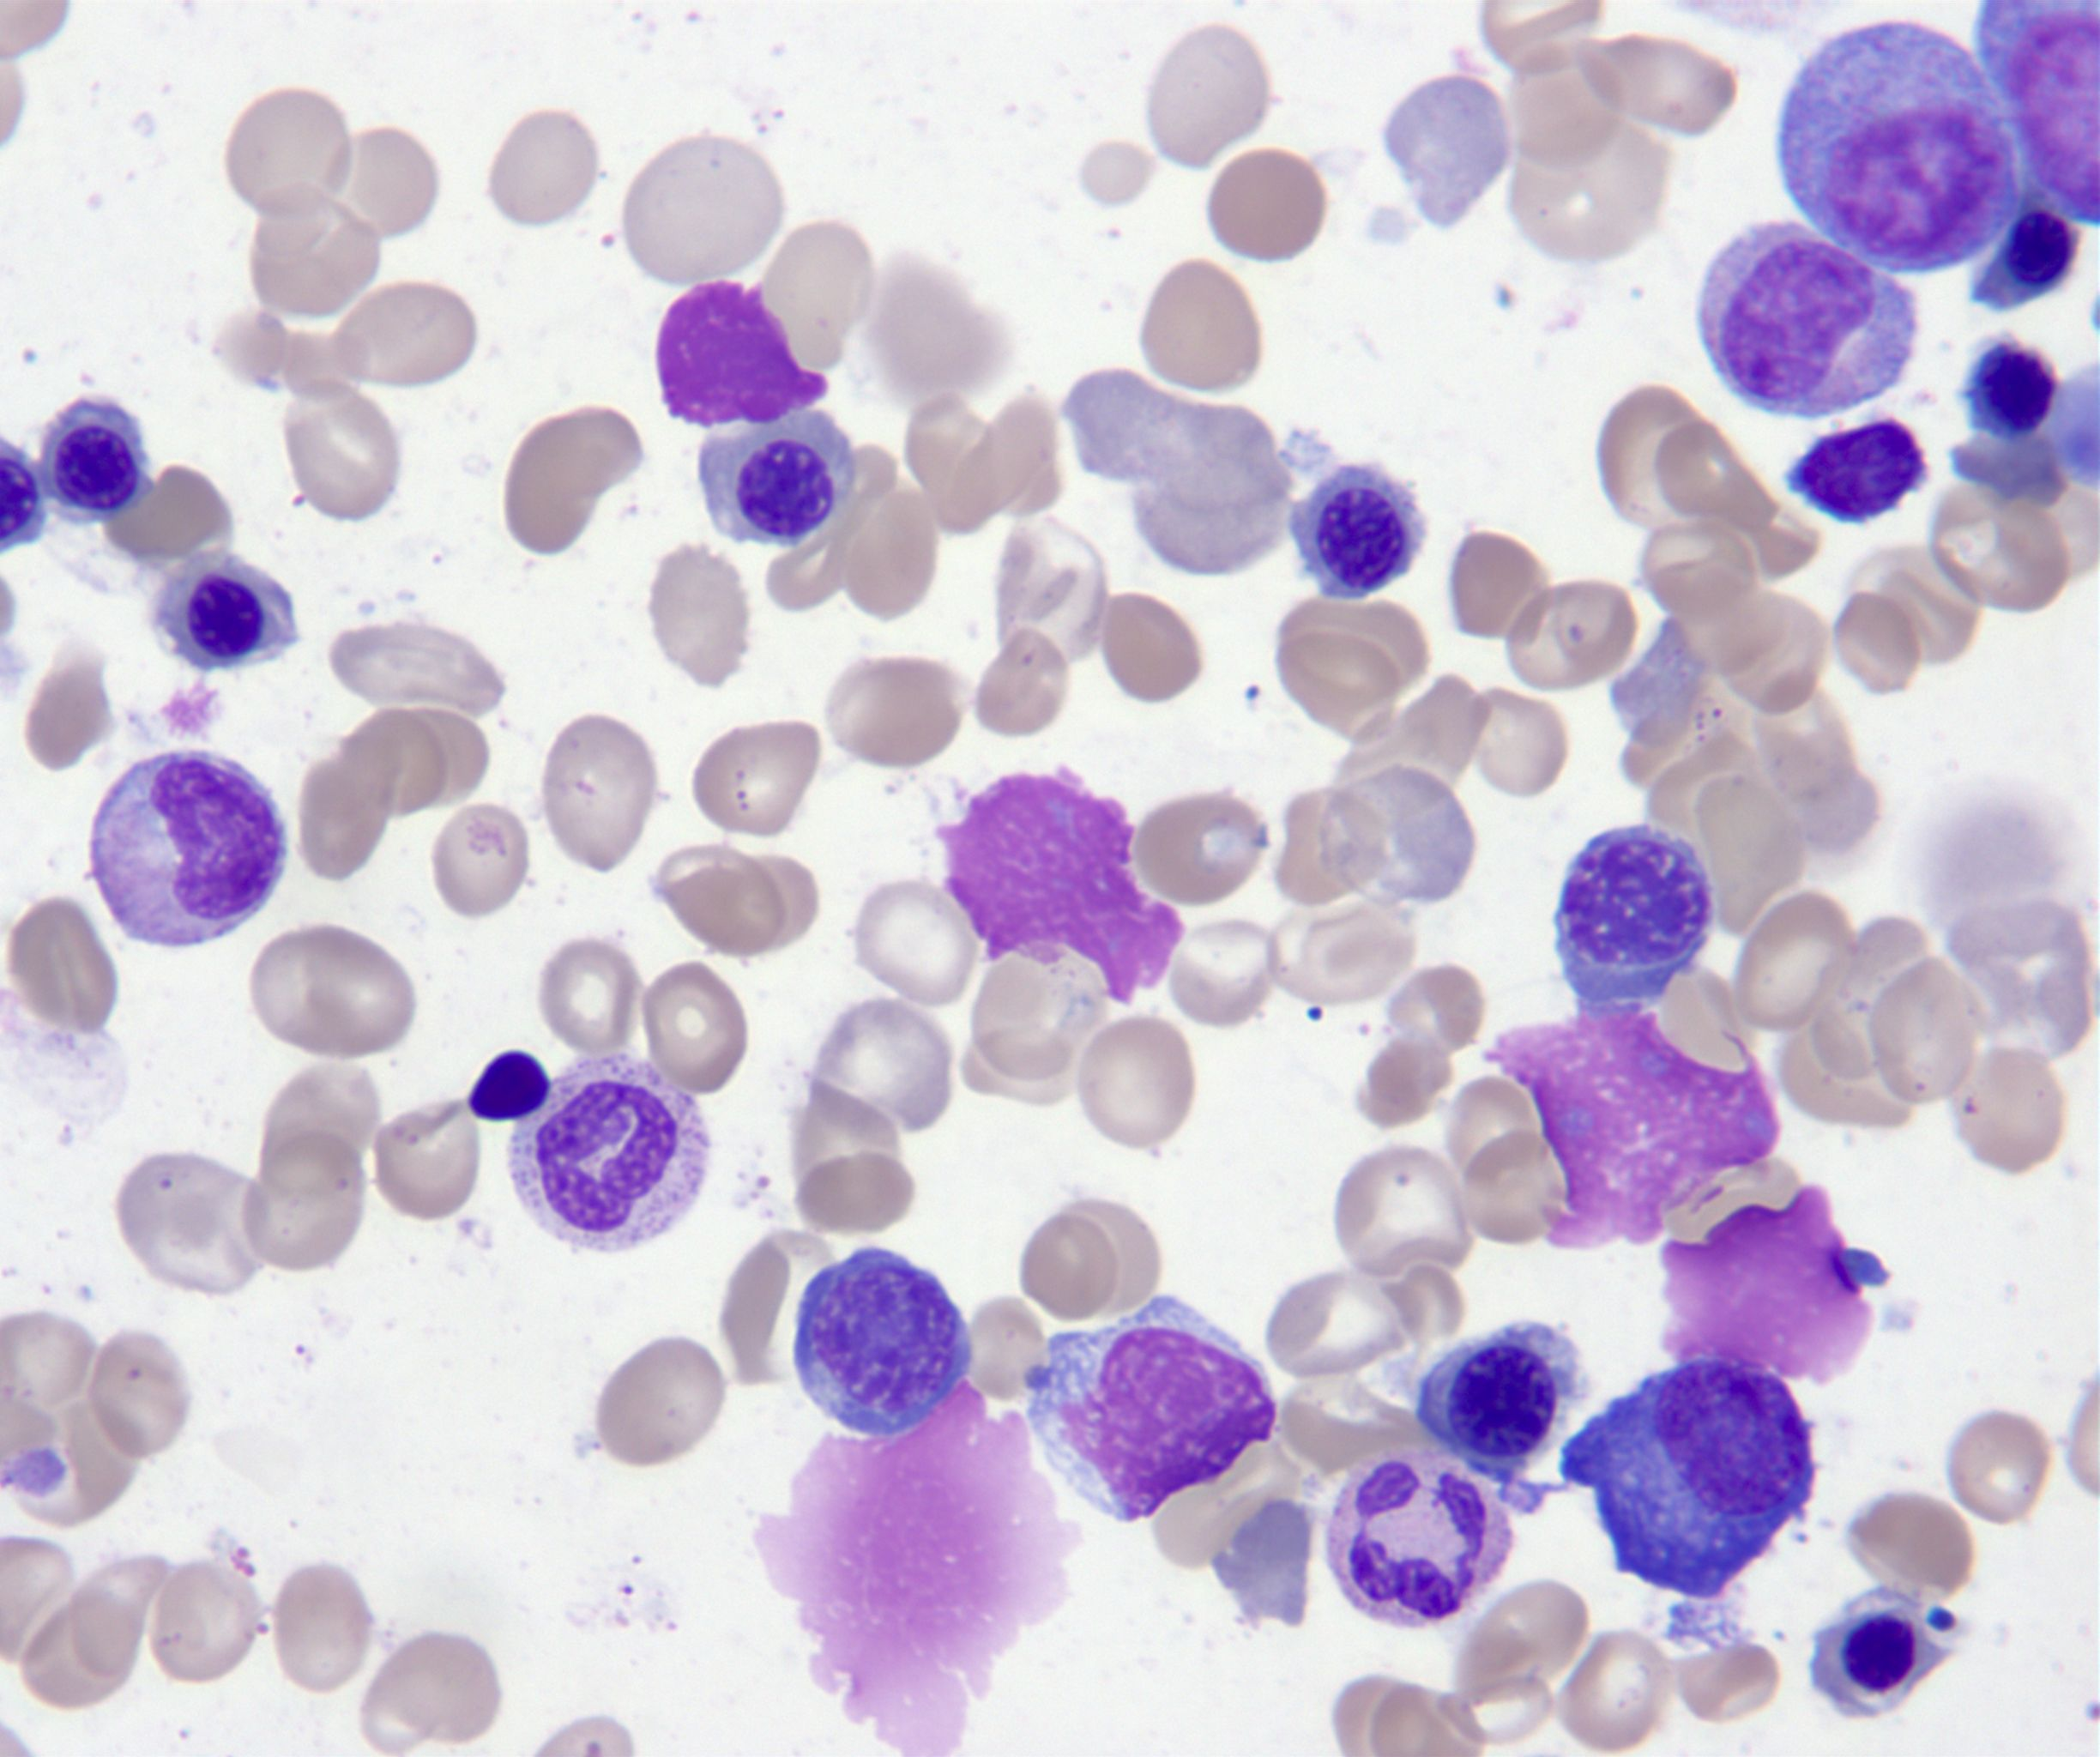23: (794, 1246, 970, 1439), (1552, 820, 1713, 1014)
24: (1418, 1324, 1584, 1480), (699, 407, 856, 546), (1287, 464, 1427, 602), (1814, 1586, 1947, 1715), (153, 551, 295, 668), (37, 401, 152, 518), (1973, 197, 2077, 311), (1962, 330, 2056, 440)
3: (1783, 21, 2020, 272), (1699, 223, 1913, 414)
32: (1784, 420, 1927, 523)
4: (92, 754, 288, 946)
52: (1565, 1356, 1814, 1598)
6: (511, 1054, 705, 1249), (1324, 1448, 1510, 1633)
x: (752, 1382, 1080, 1757), (1484, 1010, 1783, 1249), (937, 766, 1183, 1005), (1027, 1295, 1275, 1525), (1662, 1186, 1875, 1382), (1974, 0, 2100, 223), (659, 281, 828, 429)
